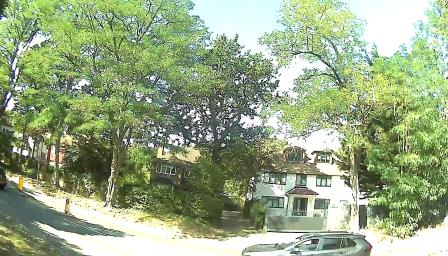Cars: (235, 237, 412, 256)
